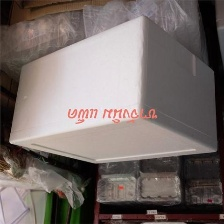foam_box: (6, 13, 221, 166)
